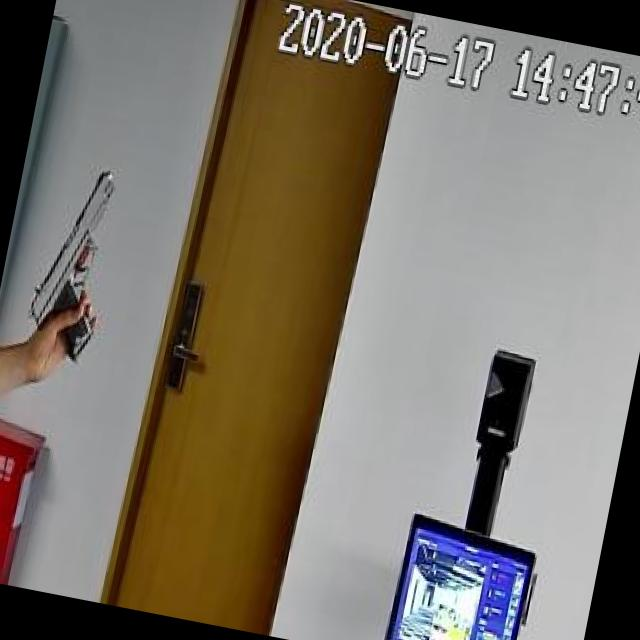Guns: (8, 154, 137, 388)
